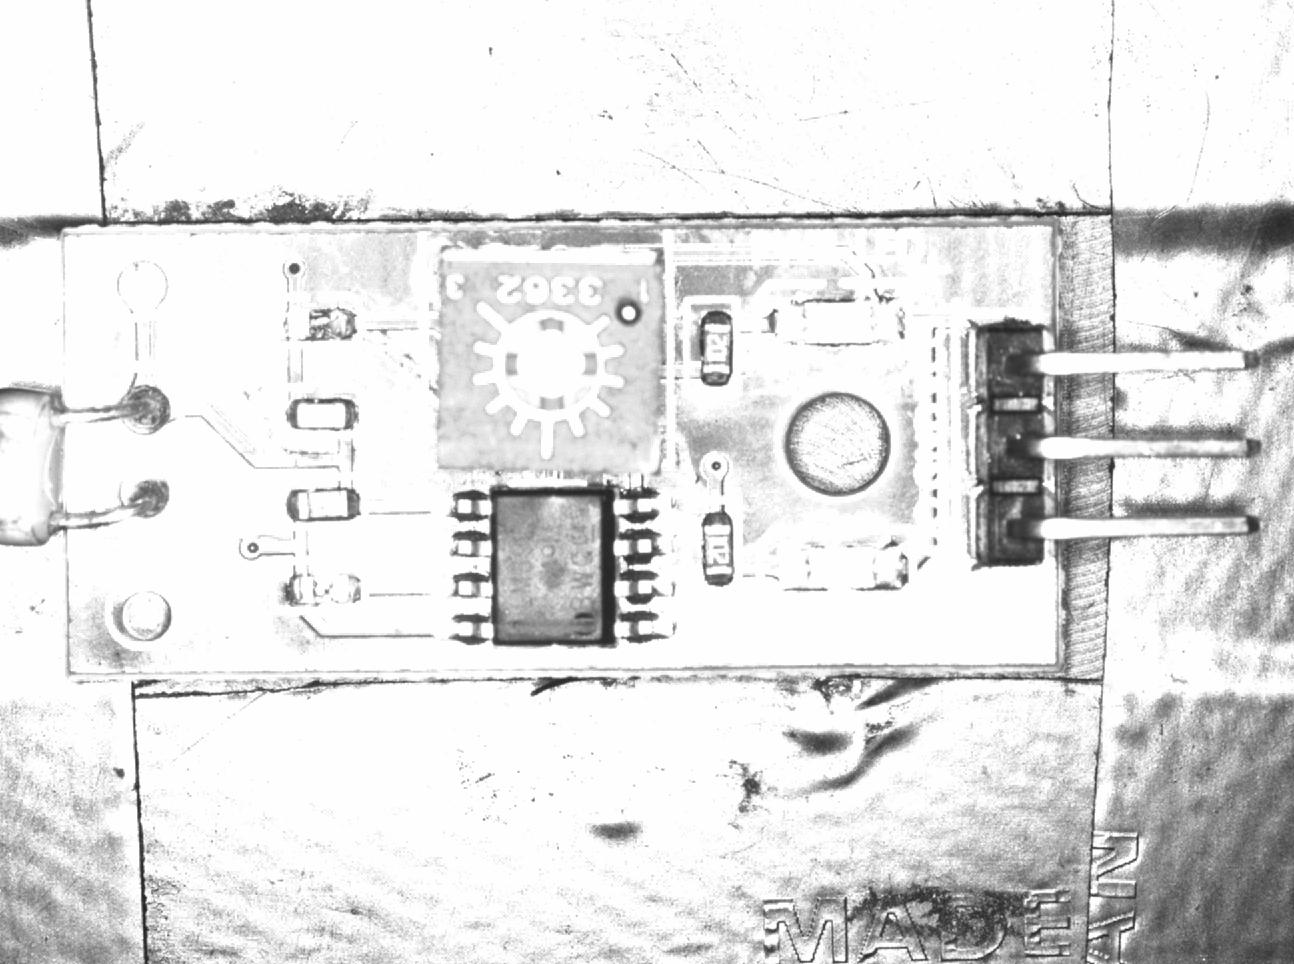miss: (278, 479, 370, 531), (265, 299, 363, 346), (284, 565, 374, 613)
ok: (691, 298, 741, 395), (688, 499, 738, 594), (271, 390, 363, 436)
